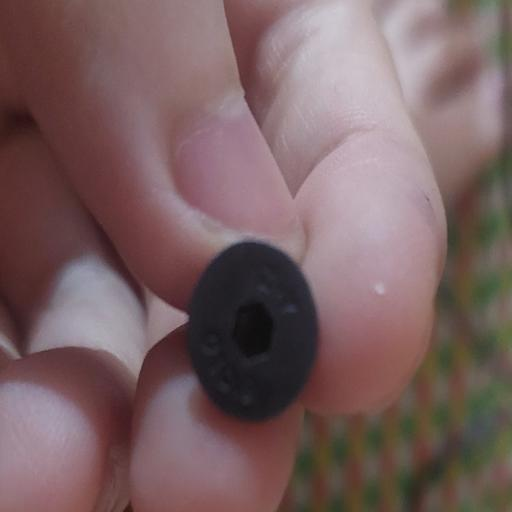Hex-Allen: (184, 236, 320, 428)
